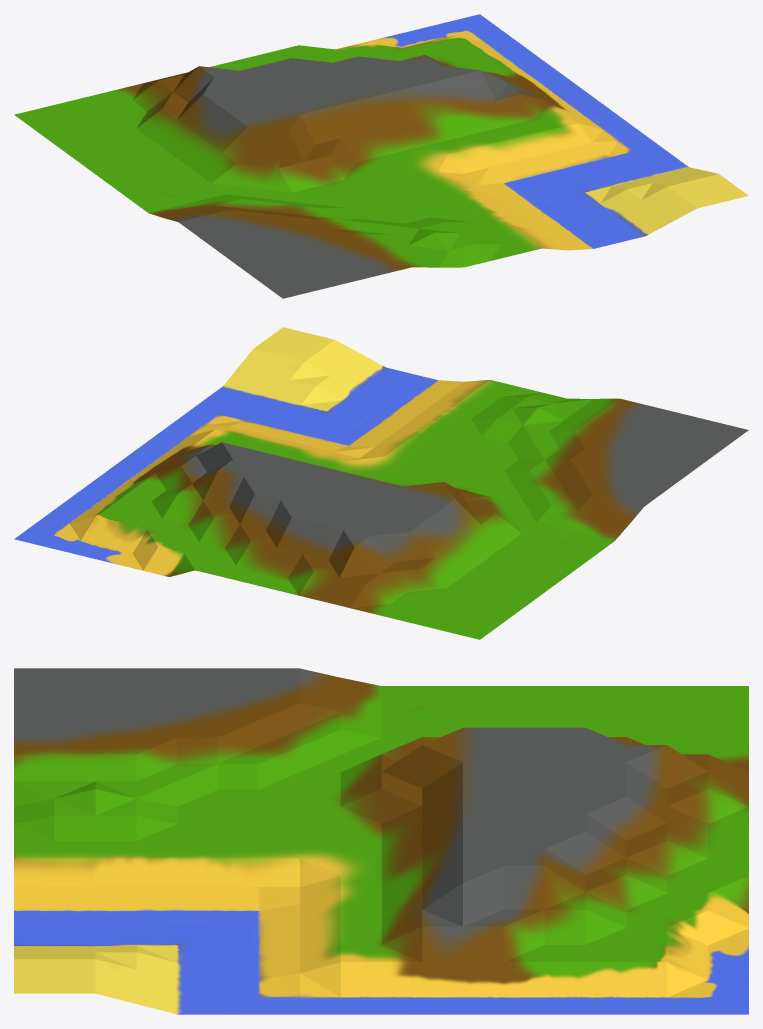
The model's file is terrain.dae.
The picture shows the model from 3 angles, top to bottom: view 1: azimuth 30°, elevation 25°; view 2: azimuth 150°, elevation 25°; view 3: azimuth 270°, elevation 25°; orthographic projection. The views are drawn at different scales.
Visible parts, largest first — view 1: Grid; view 2: Grid; view 3: Grid.
Part boxes in pixels (bbox=[...]): Grid: bbox=[14, 14, 748, 298]; Grid: bbox=[14, 327, 748, 639]; Grid: bbox=[14, 668, 748, 1014].
Bounding box in the file's own units: 11.76 × 11.76 × 1.1.
Materials: 1 (1 with a texture image).
